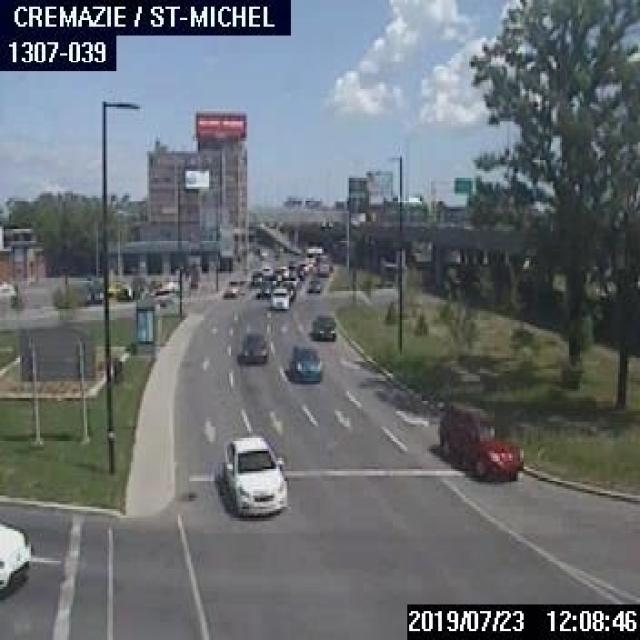vehicle: (434, 404, 524, 480), (218, 431, 287, 518), (0, 520, 29, 600), (286, 343, 322, 382), (238, 326, 267, 364), (310, 312, 335, 342), (270, 286, 288, 309), (224, 276, 244, 294), (278, 280, 294, 299), (0, 281, 15, 299), (255, 278, 270, 296), (305, 276, 320, 292), (250, 267, 263, 283), (261, 264, 272, 276)
